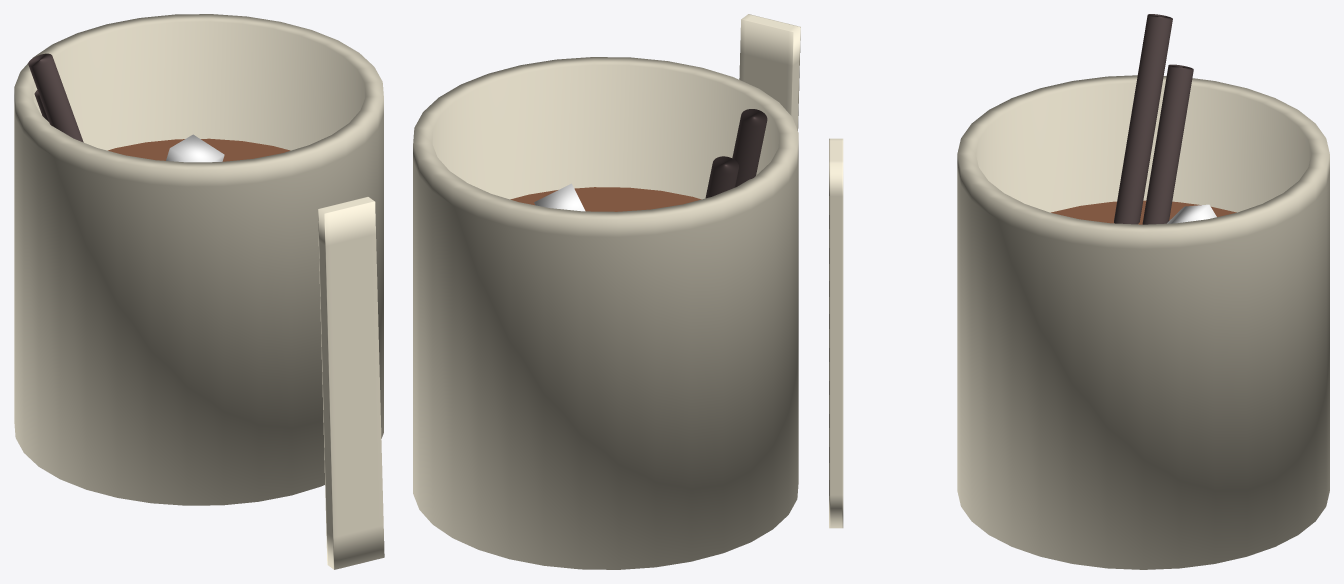
Rendered from CoffeeMug.glb.
The picture shows the model from 3 angles, left to right: view 1: azimuth 30°, elevation 25°; view 2: azimuth 150°, elevation 25°; view 3: azimuth 270°, elevation 25°; orthographic projection. The views are drawn at different scales.
Visible parts, largest first — view 1: Cup, Handle, Choco1, Coffee, Ice.001; view 2: Cup, Handle, Coffee, Choco1, Choco2, Ice.003; view 3: Cup, Handle, Choco1, Choco2, Coffee.
Part boxes in pixels (bbox=[...]): Cup: bbox=[14, 14, 383, 505]; Handle: bbox=[318, 196, 384, 569]; Choco1: bbox=[28, 53, 83, 142]; Coffee: bbox=[108, 138, 290, 161]; Ice.001: bbox=[166, 134, 224, 162]; Cup: bbox=[413, 57, 798, 569]; Handle: bbox=[739, 14, 800, 130]; Coffee: bbox=[510, 187, 701, 211]; Choco1: bbox=[732, 109, 767, 187]; Choco2: bbox=[705, 156, 738, 198]; Ice.003: bbox=[534, 183, 585, 211]; Cup: bbox=[957, 75, 1329, 569]; Handle: bbox=[829, 138, 843, 528]; Choco1: bbox=[1114, 14, 1172, 224]; Choco2: bbox=[1142, 64, 1193, 224]; Coffee: bbox=[1051, 200, 1236, 224].
Size of what is drawn, in the model's own units: 2.01 by 2.53 by 2.69.
